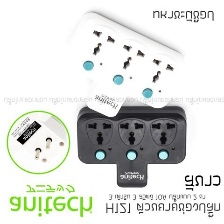three_eye_plug: (64, 8, 189, 120), (73, 102, 189, 189)
